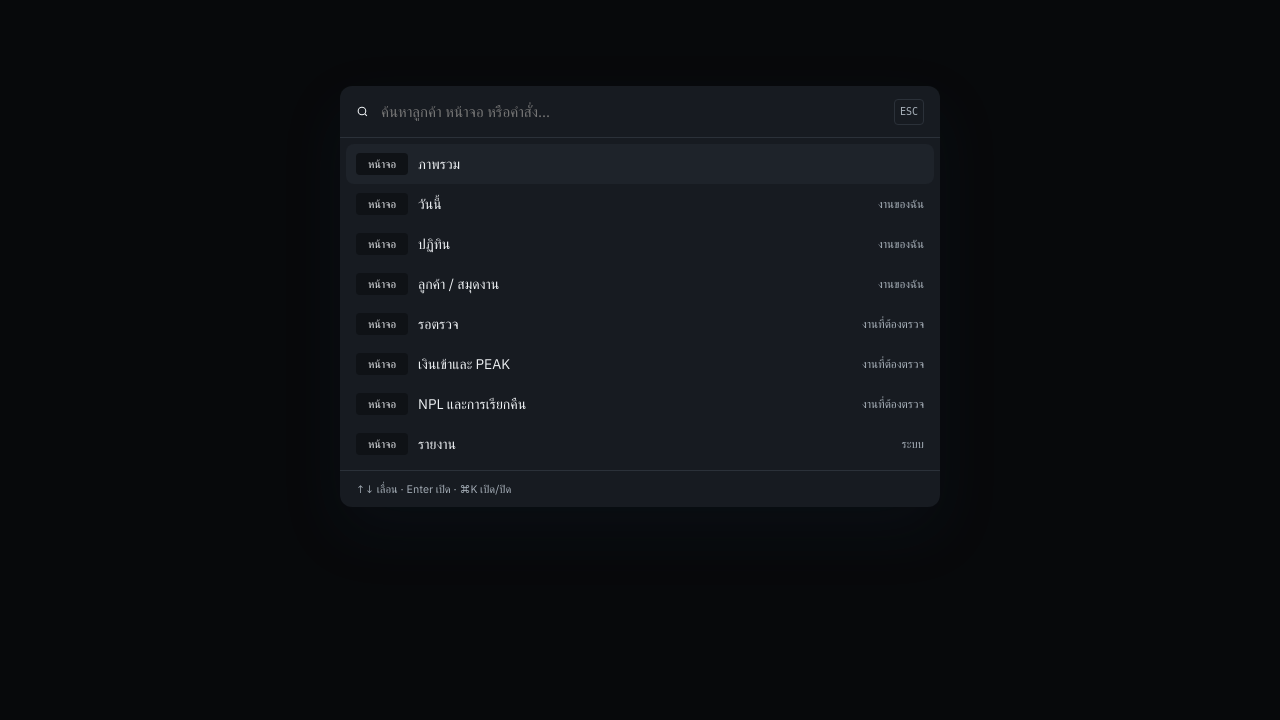
Scenario: the customer command palette › opens invoice statuses from hover or keyboard focus without nesting controls
In the field: coordinates (631, 112) [379,101,884,122], type "ป"
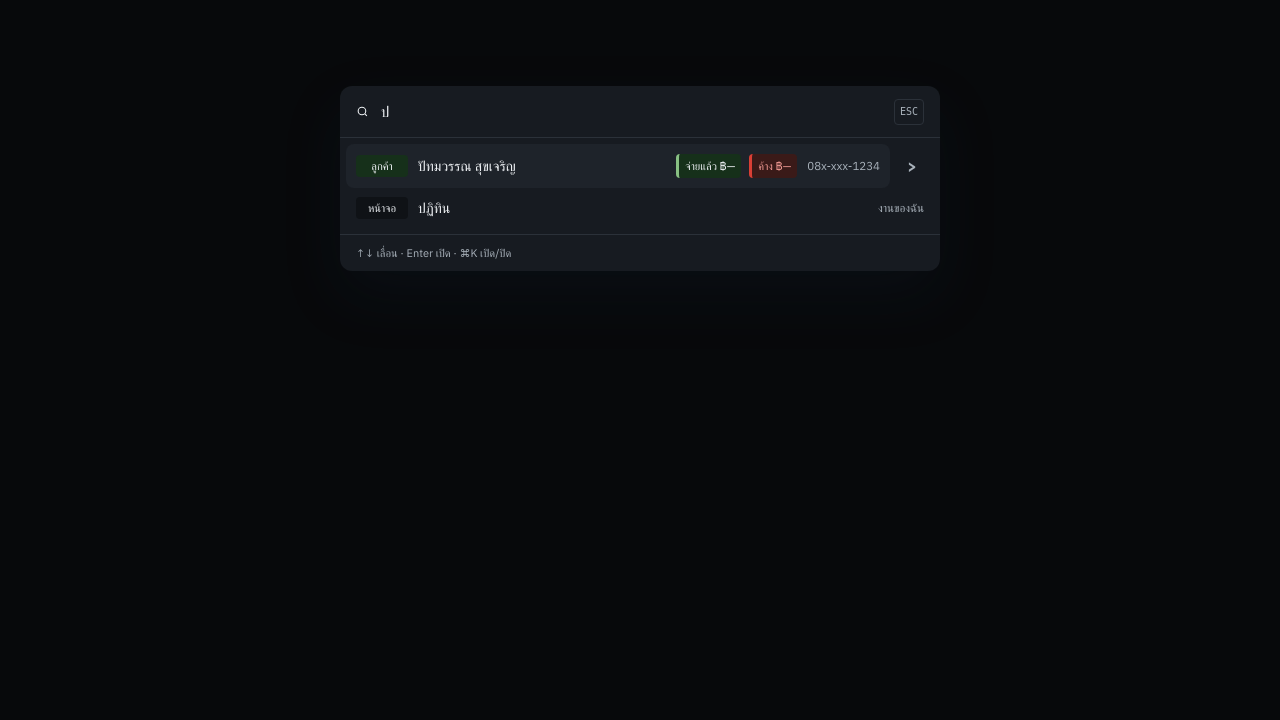
Focus the button named "ดูสถานะใบแจ้งหนี้ของ ปัทมวรรณ สุขเจริญ": coordinates (912, 166) [890,144,934,188]
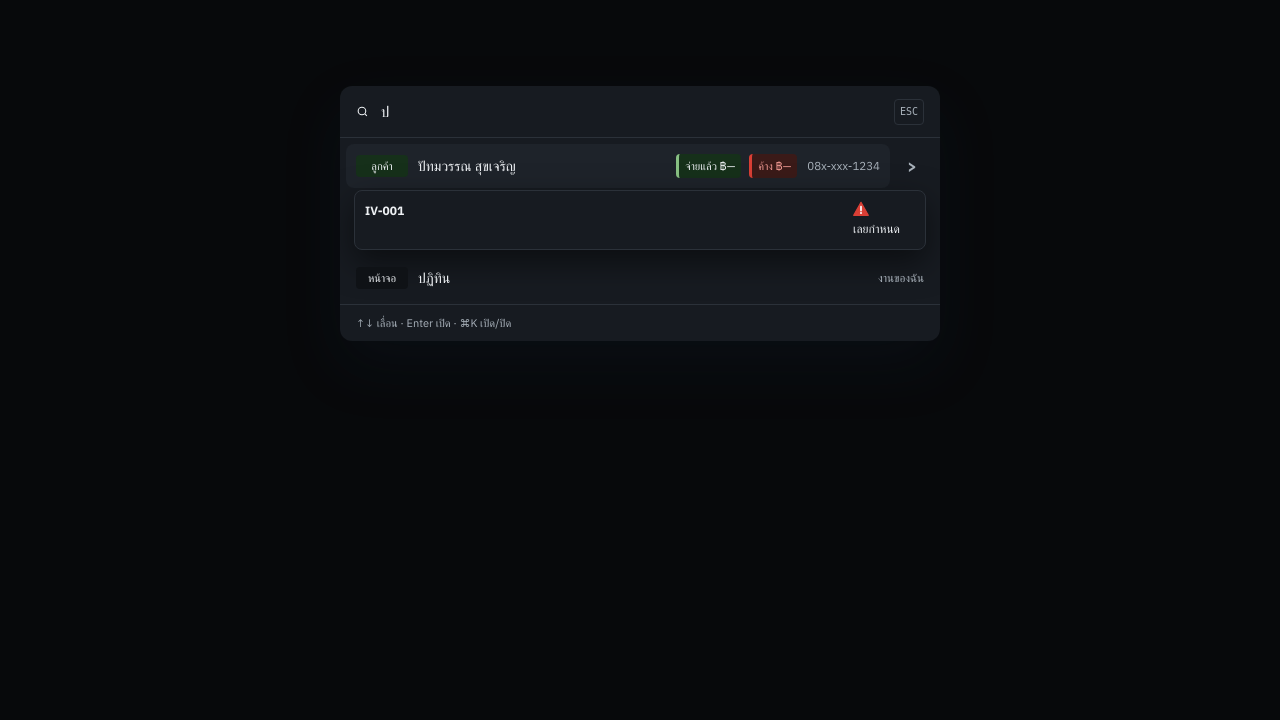
Expected: the text "IV-001" is shown, [365,203,404,218]
Expected: the text "เลยกำหนด" is shown, [853,201,900,239]
Expected: the icon with class "st--problem" in the row of "IV-001" is shown, [853,201,869,217]
Press Escape in the button named "ดูสถานะใบแจ้งหนี้ของ ปัทมวรรณ สุขเจริญ", box [890,144,934,188]
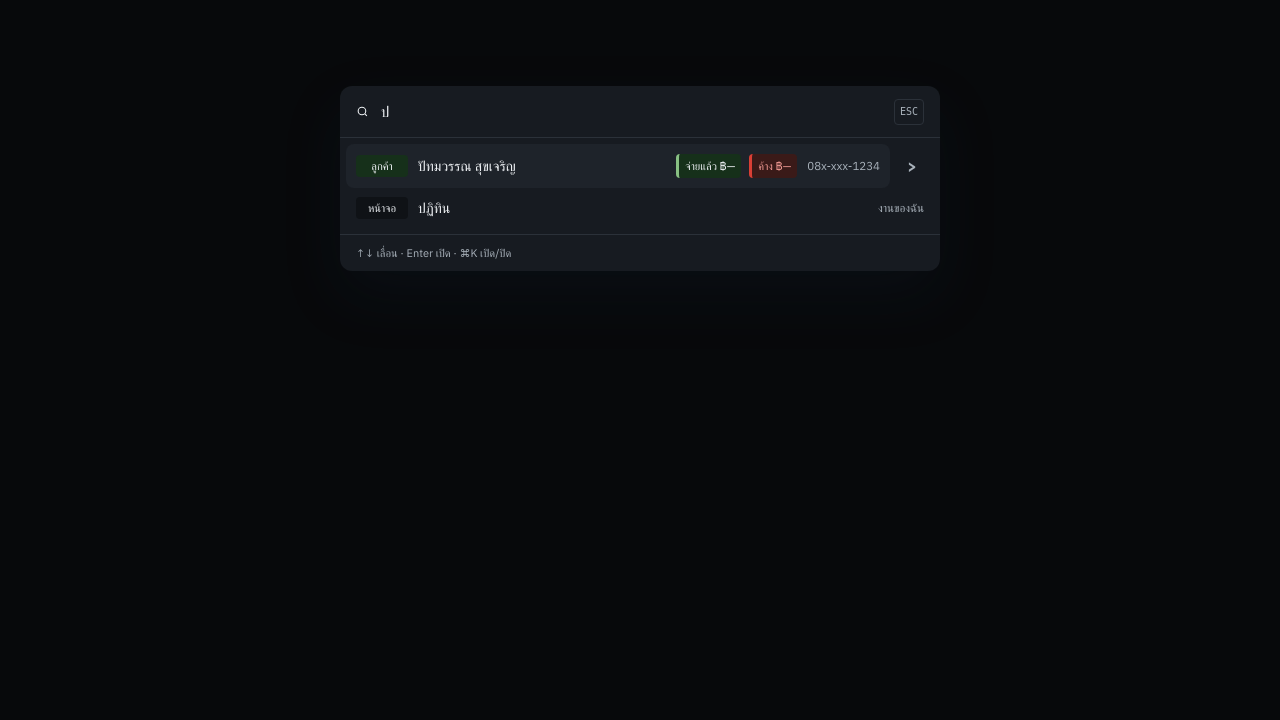
Expected: the text "IV-001" is gone
Hover over the button named "ดูสถานะใบแจ้งหนี้ของ ปัทมวรรณ สุขเจริญ": coordinates (912, 166) [890,144,934,188]
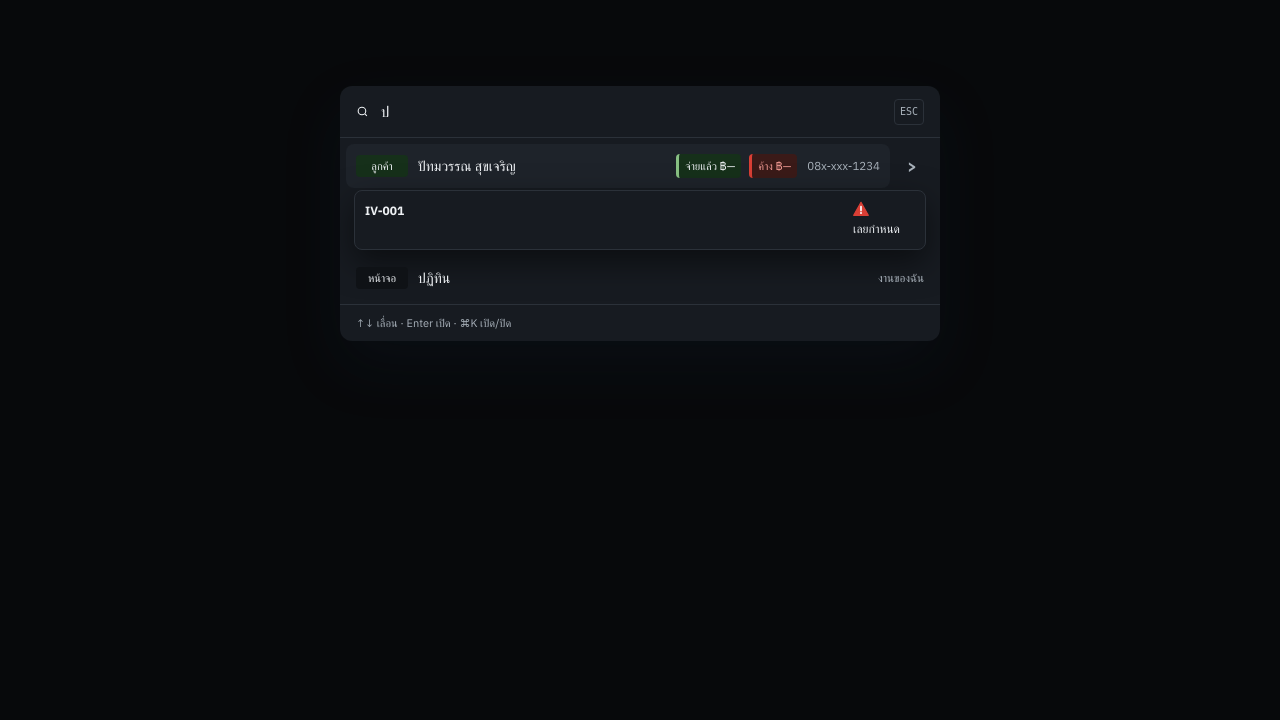
Expected: the text "IV-001" is shown, [365,203,404,218]
